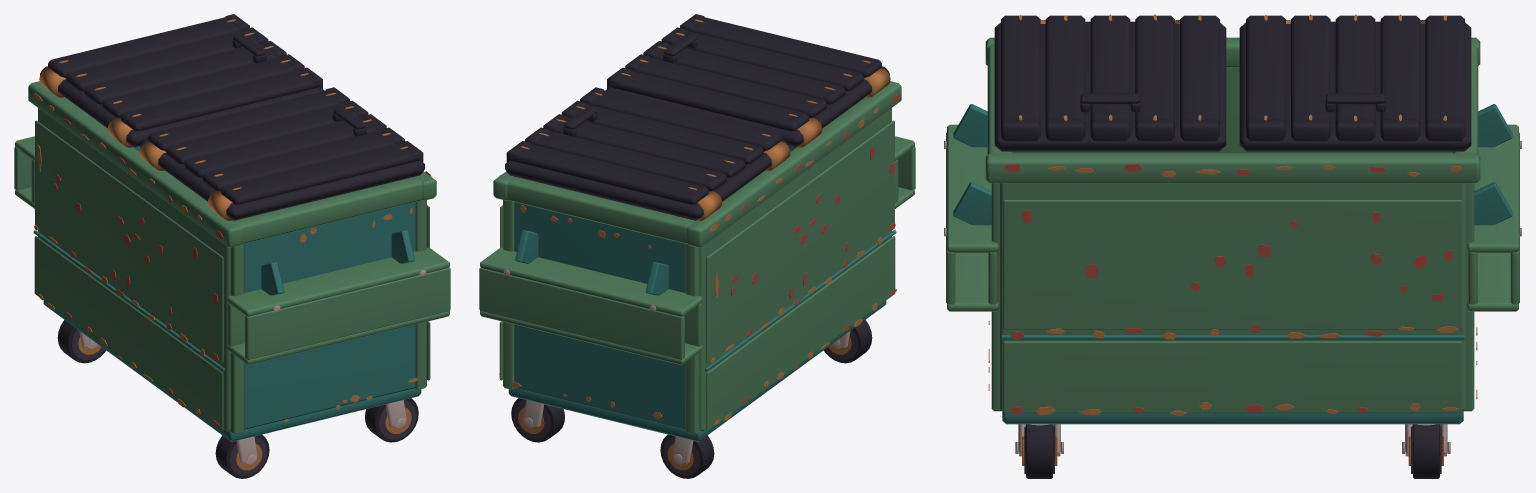
The model's file is prop.dumpster.glb.
The picture shows the model from 3 angles, left to right: view 1: azimuth 30°, elevation 25°; view 2: azimuth 150°, elevation 25°; view 3: azimuth 270°, elevation 25°; orthographic projection. The views are drawn at different scales.
Parts seen in each view (by area): view 1: body, lidL, lidR, wheelRL, wheelFL, object 1, wheelRR; view 2: body, lidR, lidL, wheelRR, wheelFR, object 1, wheelRL; view 3: body, lidL, lidR, wheelFL, wheelFR, object 1.
Boxes of the visible parts, left/top/right/bottom form: body: left=14, top=81, right=450, bottom=441; lidL: left=139, top=87, right=424, bottom=220; lidR: left=39, top=14, right=324, bottom=147; wheelRL: left=215, top=434, right=269, bottom=478; wheelFL: left=365, top=398, right=418, bottom=442; object 1: left=79, top=331, right=406, bottom=463; wheelRR: left=57, top=320, right=105, bottom=363; body: left=479, top=81, right=915, bottom=441; lidR: left=505, top=87, right=790, bottom=220; lidL: left=605, top=14, right=890, bottom=147; wheelRR: left=660, top=434, right=714, bottom=478; wheelFR: left=511, top=398, right=564, bottom=442; object 1: left=523, top=331, right=850, bottom=463; wheelRL: left=824, top=320, right=872, bottom=363; body: left=944, top=37, right=1521, bottom=424; lidL: left=994, top=14, right=1226, bottom=151; lidR: left=1239, top=14, right=1471, bottom=151; wheelFL: left=1019, top=424, right=1060, bottom=478; wheelFR: left=1405, top=424, right=1446, bottom=478; object 1: left=1015, top=424, right=1450, bottom=454.
Bounding box in the file's own units: 1.37 × 1.87 × 2.63.
